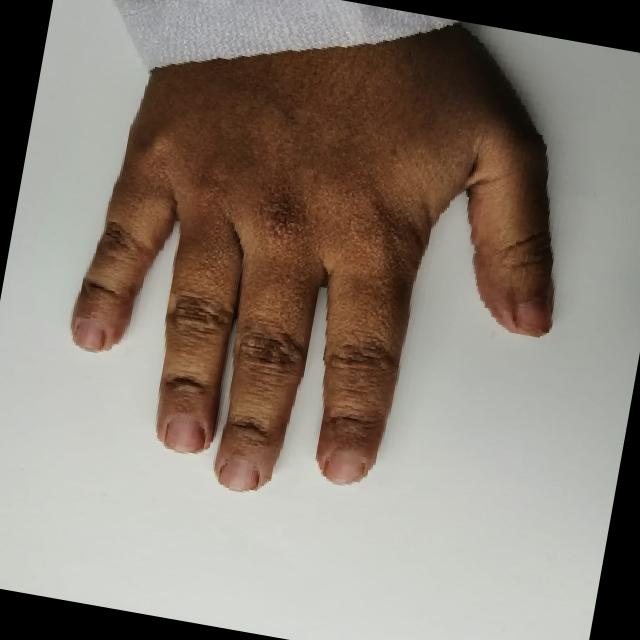Nail: (322, 448, 363, 482), (164, 415, 202, 451), (514, 299, 550, 335), (218, 458, 258, 488), (73, 317, 105, 350)
